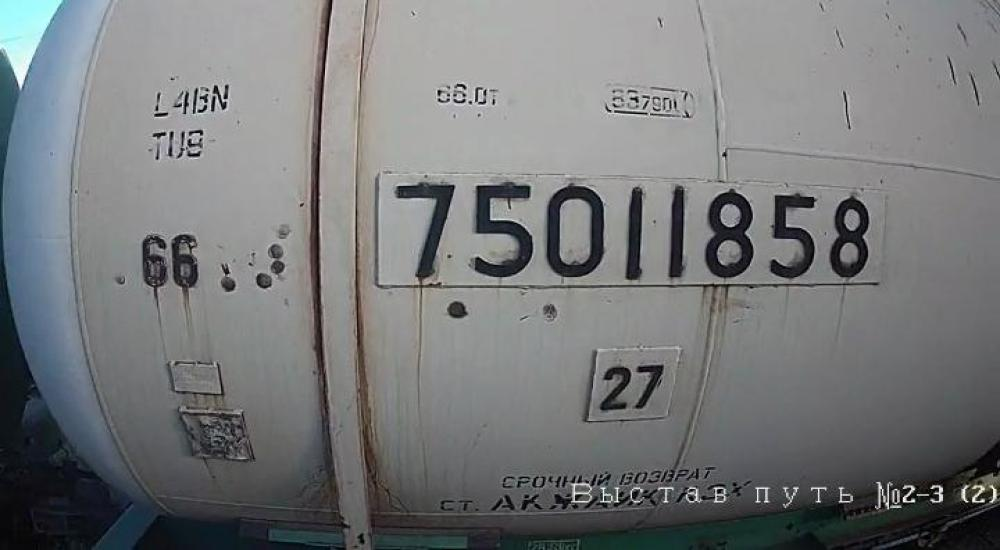Wagon-number: (390, 174, 880, 286)
